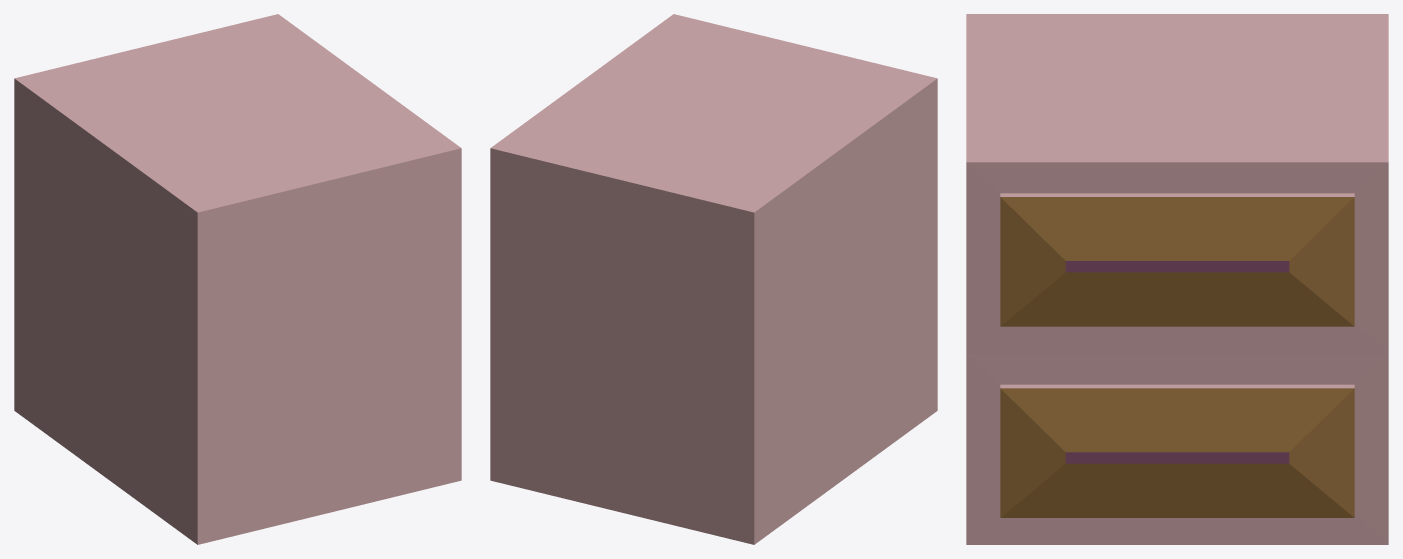
Rendered from Drawer_Material.fbx.
3 views of the same model, side by side, from view 1: azimuth 30°, elevation 25°; view 2: azimuth 150°, elevation 25°; view 3: azimuth 270°, elevation 25° (orthographic). The views are drawn at different scales.
Visible parts, largest first — view 1: Drawer; view 2: Drawer; view 3: Drawer.
Part boxes in pixels (bbox=[...]): Drawer: bbox=[14, 14, 461, 544]; Drawer: bbox=[490, 14, 937, 544]; Drawer: bbox=[966, 14, 1388, 544].
Size of the model in its own units: 0.4429 by 0.5036 by 0.5036.
